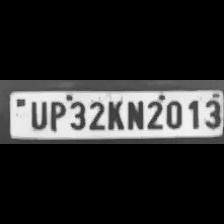0: (163, 98, 183, 130)
1: (183, 97, 200, 129)
2: (86, 98, 106, 132), (144, 97, 164, 130)
3: (200, 96, 222, 130), (66, 98, 86, 130)
K: (104, 98, 124, 132)
N: (124, 97, 142, 130)
P: (46, 98, 64, 132)
U: (26, 98, 48, 130)
